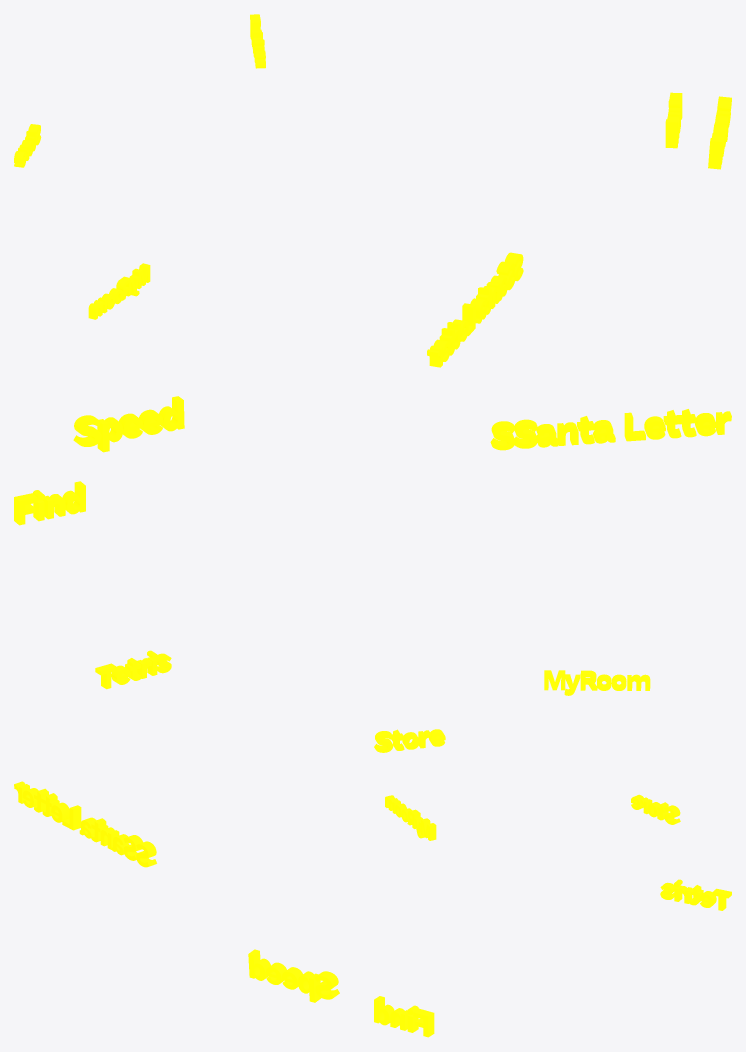
Rendered from main_text.glb.
3 views of the same model, one above another, from view 1: azimuth 30°, elevation 25°; view 2: azimuth 150°, elevation 25°; view 3: azimuth 270°, elevation 25° (orthographic). The views are drawn at different scales.
Visible parts, largest first — view 1: main_text; view 2: main_text; view 3: main_text.
Part boxes in pixels (bbox=[...]): main_text: bbox=[14, 14, 731, 367]; main_text: bbox=[14, 396, 731, 752]; main_text: bbox=[14, 781, 731, 1037].
Bounding box in the file's own units: 69.73 × 11.57 × 80.27.
